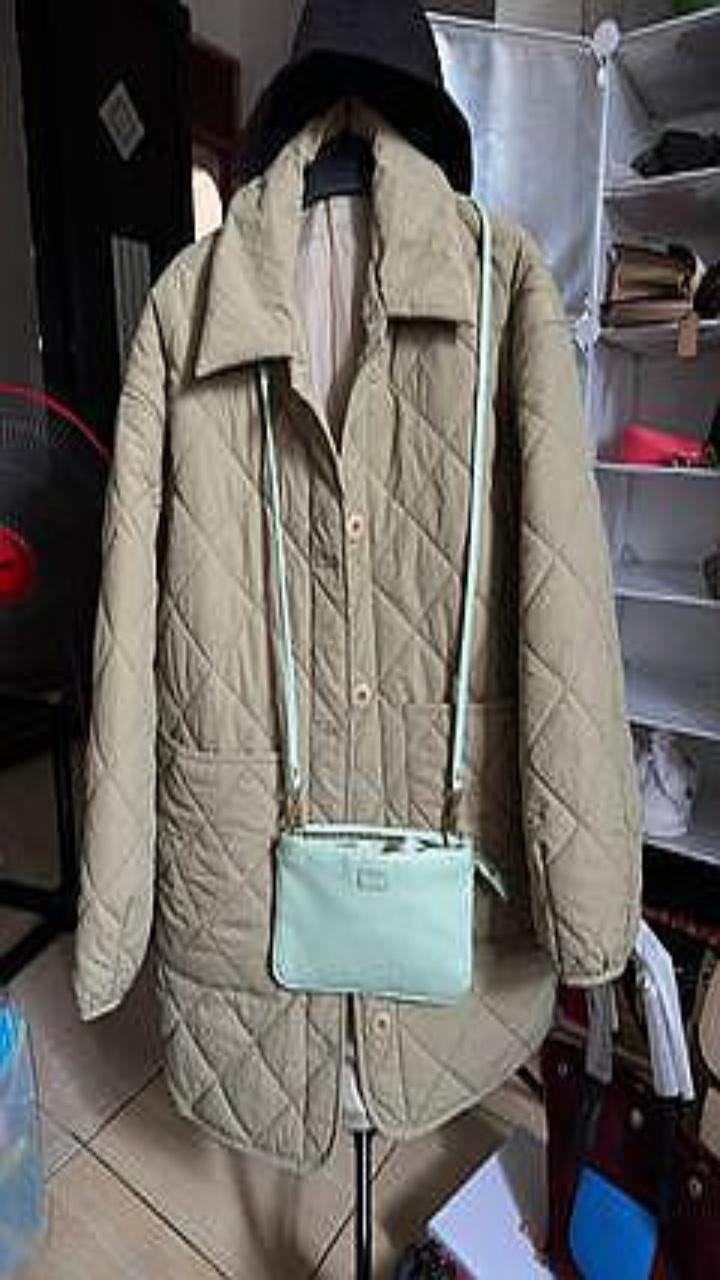Coat: (75, 108, 640, 1168)
